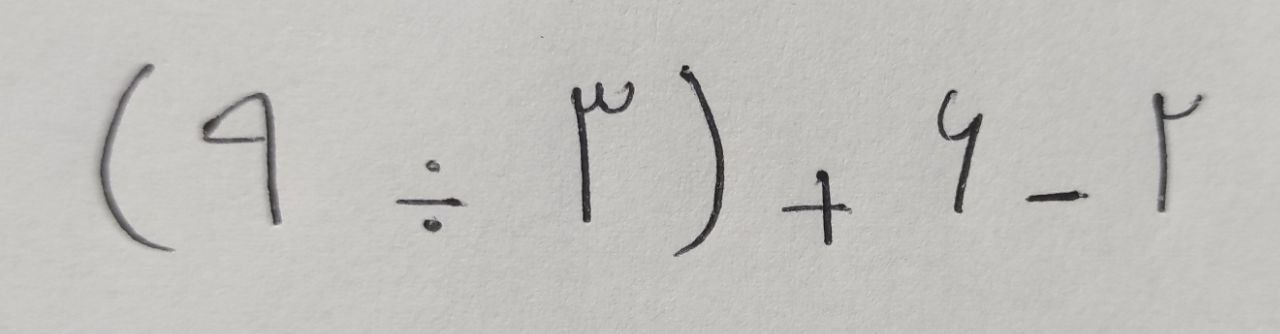character: (97, 64, 177, 253), (203, 90, 284, 228), (673, 66, 726, 258), (572, 81, 635, 224), (936, 88, 985, 213), (1154, 94, 1203, 213), (397, 160, 467, 235), (784, 172, 854, 247), (1028, 190, 1091, 204)
